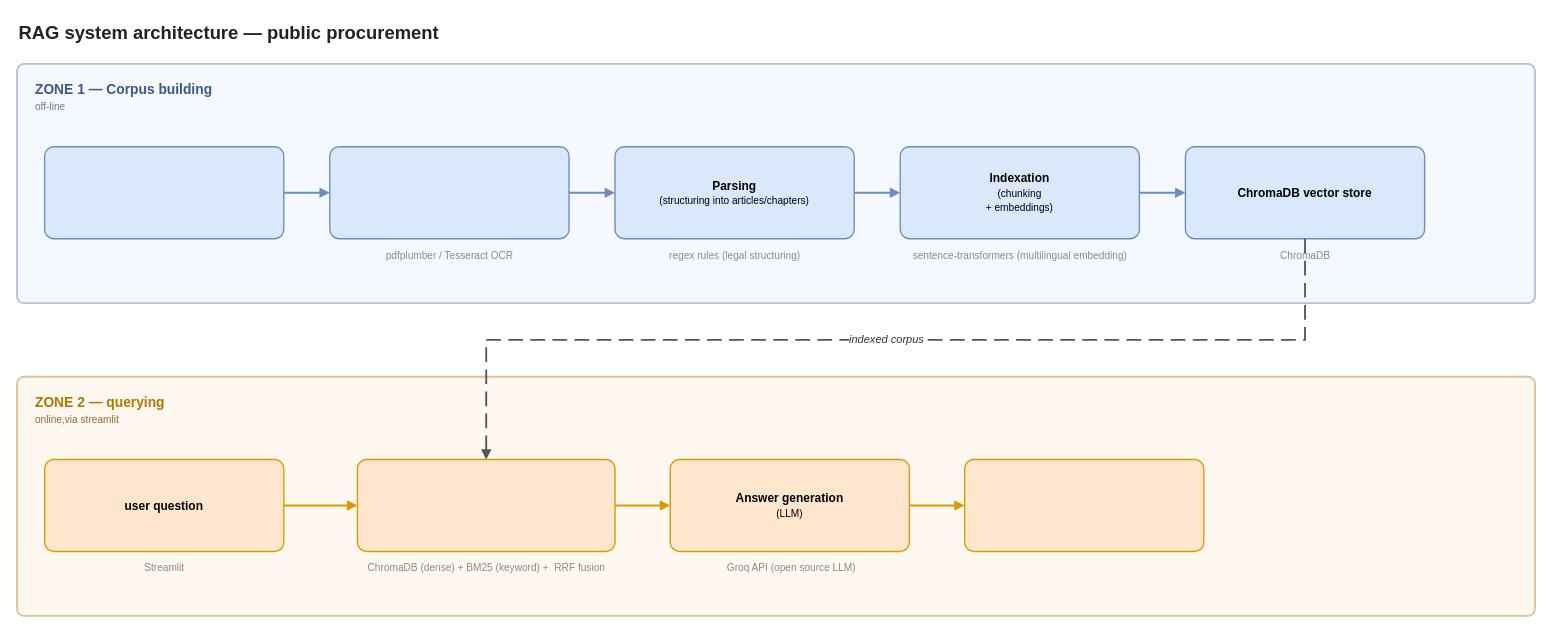
The diagram is 1551 pixels wide and 632 high, and some of its shapes have lost their labels. The shapes that lost their labels are listed below. From the top down, each one's centre as x and y in pixels, then its label:
At pixel 164 192: "raw pdf".
At pixel 449 192: "Ingestion (native extraction or ocr depending on pdf type)".
At pixel 485 505: "Hybrid search (dense + BM25, RRF fusion)".
At pixel 1084 505: "displayed answers + sources".
